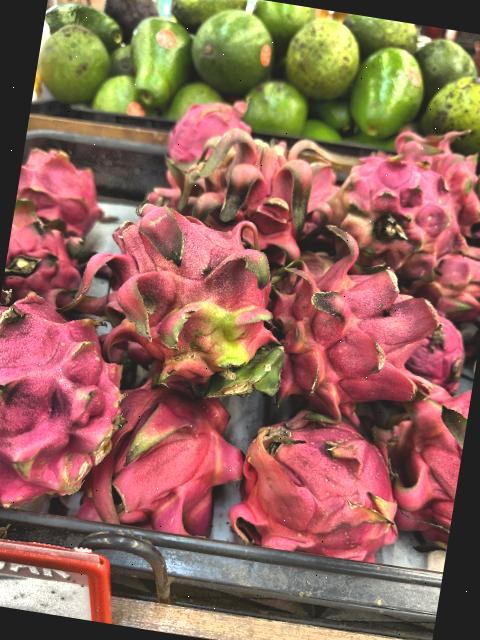buah-naga-belum-matang: (62, 192, 308, 412), (319, 134, 470, 288)
buah-naga-matang: (267, 214, 461, 430), (0, 283, 139, 515), (229, 407, 415, 568), (156, 115, 346, 271), (90, 375, 255, 551), (358, 382, 470, 542), (12, 132, 122, 242), (1, 197, 92, 311)
